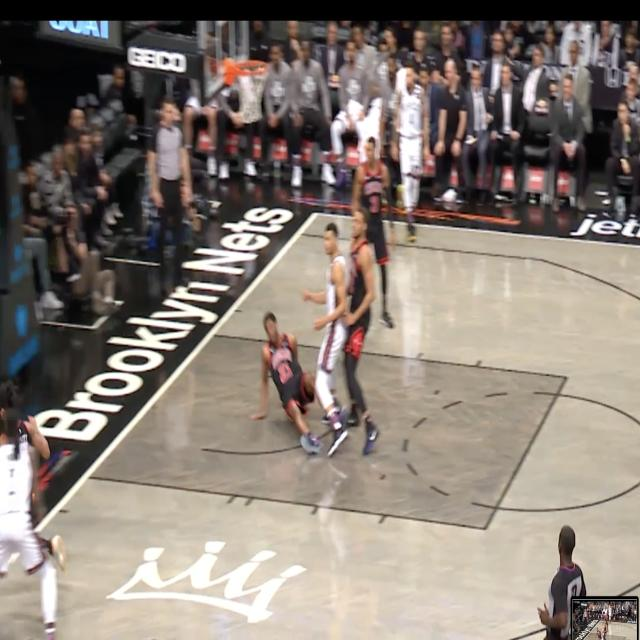foul: (241, 198, 388, 474)
